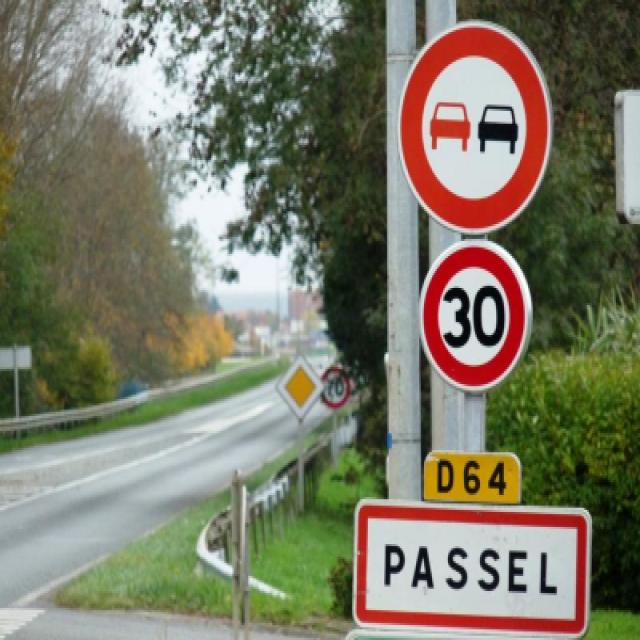double_car: (397, 17, 555, 237)
priority_lane: (273, 351, 328, 424)
speed_30: (416, 238, 532, 394)
